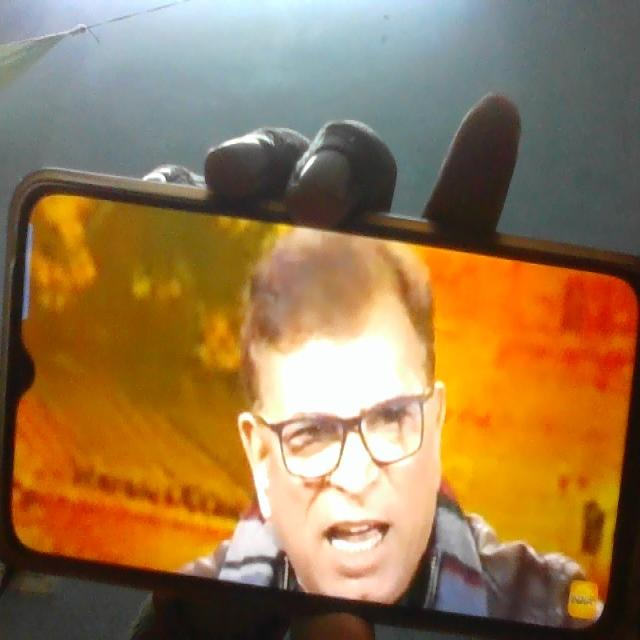fake: (240, 208, 460, 624)
